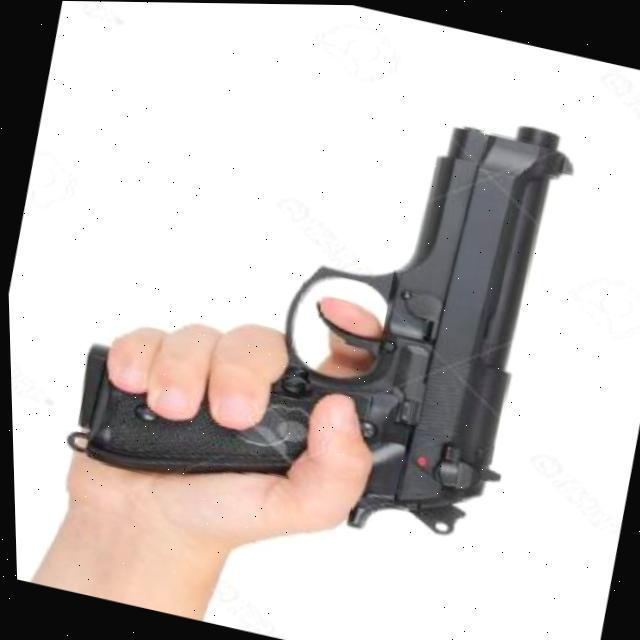gun: (47, 35, 590, 562)
